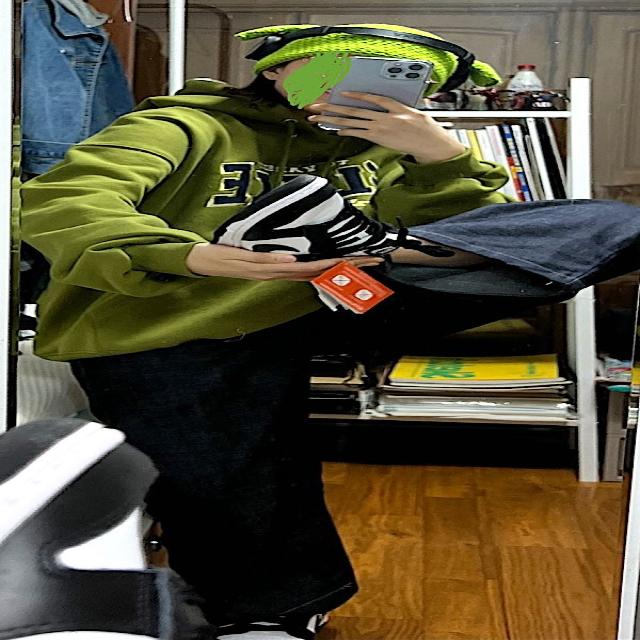denimpants: (69, 191, 640, 634)
hoodies: (19, 73, 509, 357)
